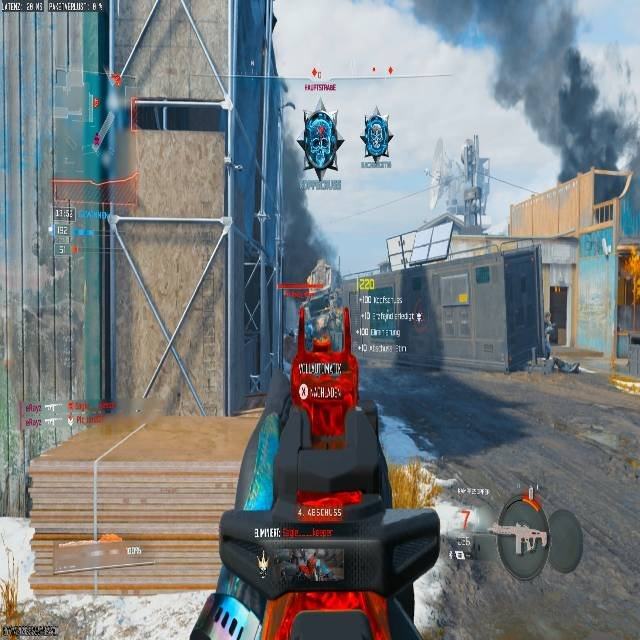player: (300, 110, 342, 181), (363, 111, 389, 163)
